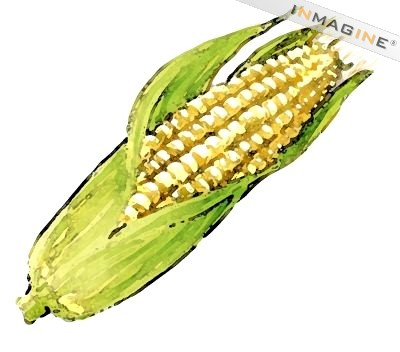corn: (13, 5, 377, 327)
